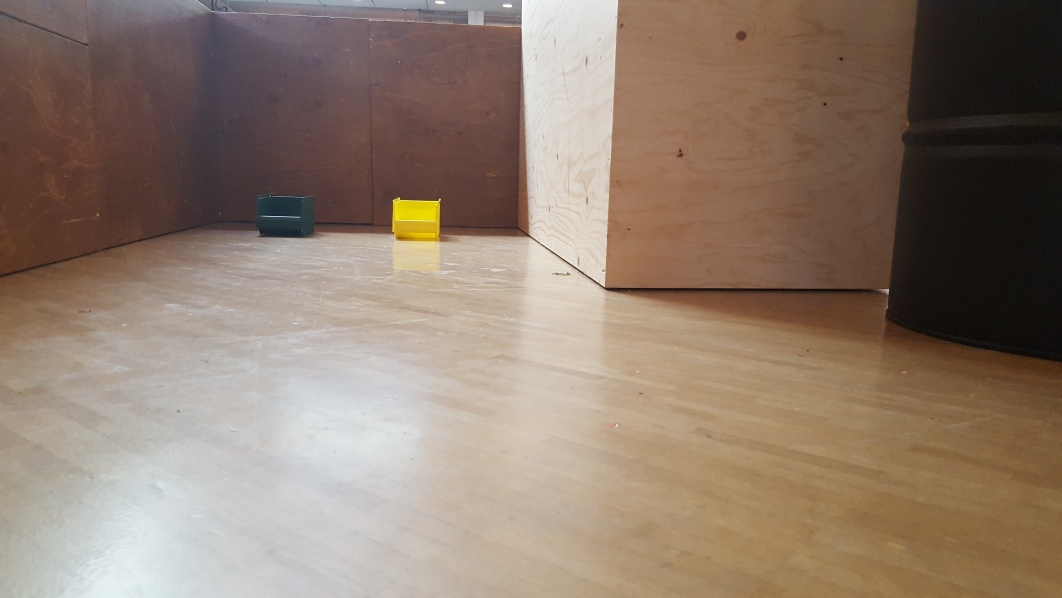tray: (388, 194, 444, 241), (257, 194, 316, 238)
